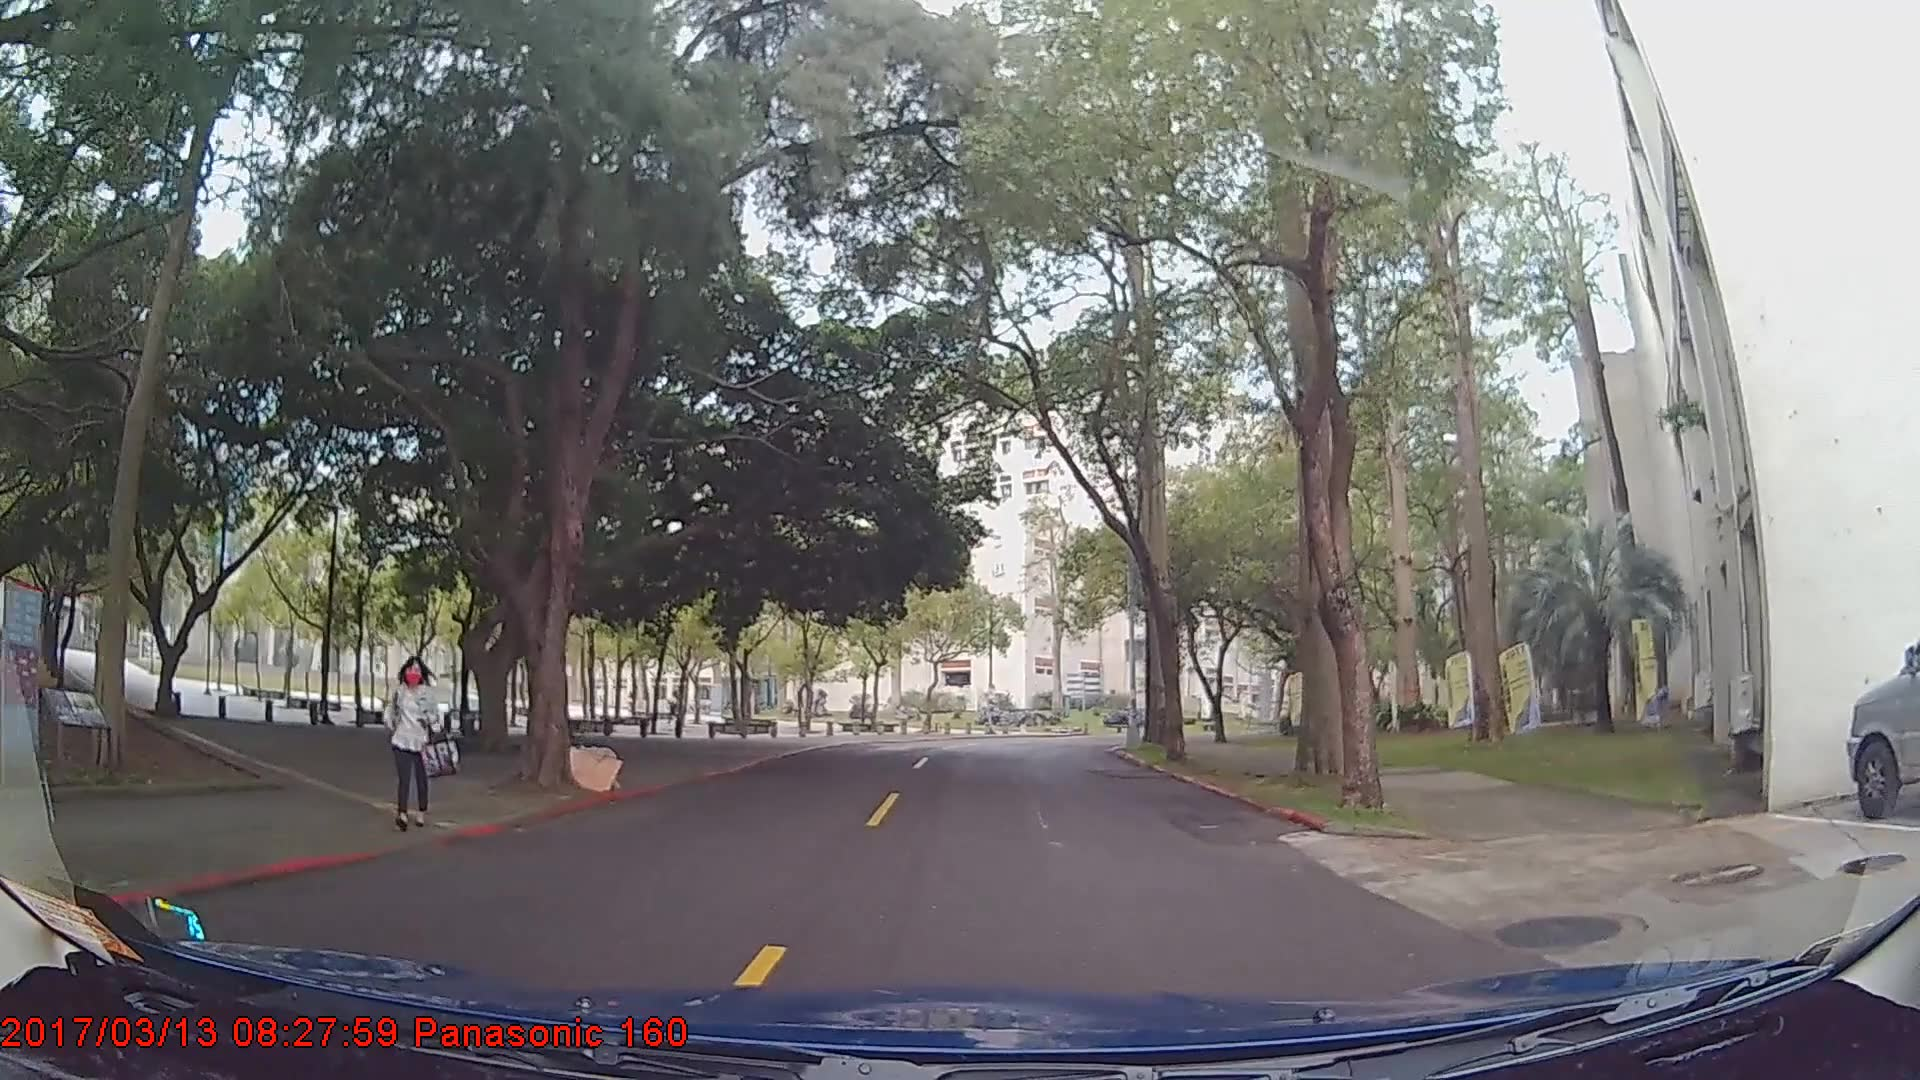pedestrian: (381, 651, 456, 832)
vehicle: (1849, 637, 1920, 822)
